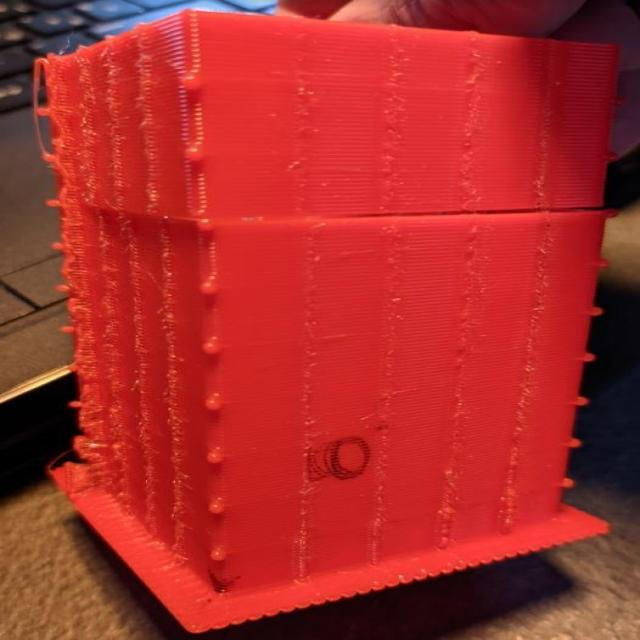spaghetti: (28, 34, 137, 511), (167, 12, 254, 591), (318, 198, 620, 234)
